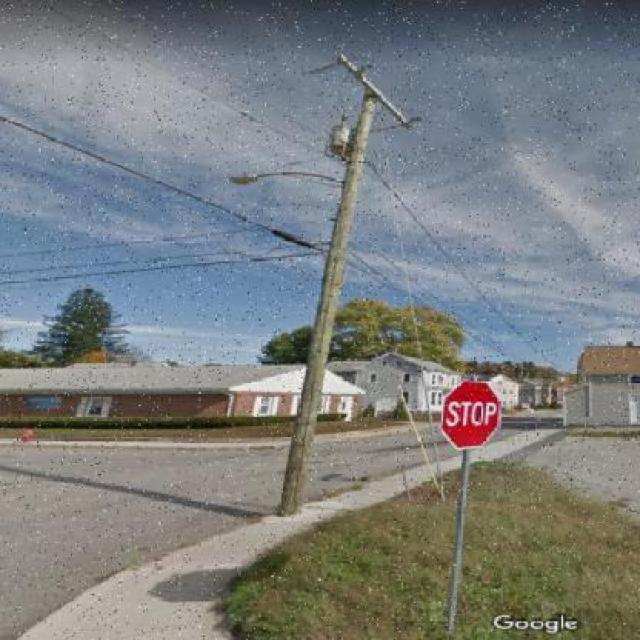pole: (248, 43, 426, 514)
